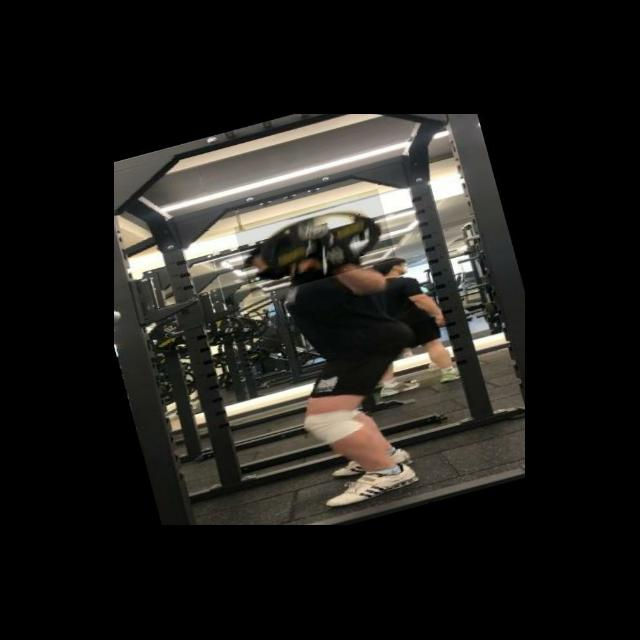barbell: (234, 189, 397, 297)
